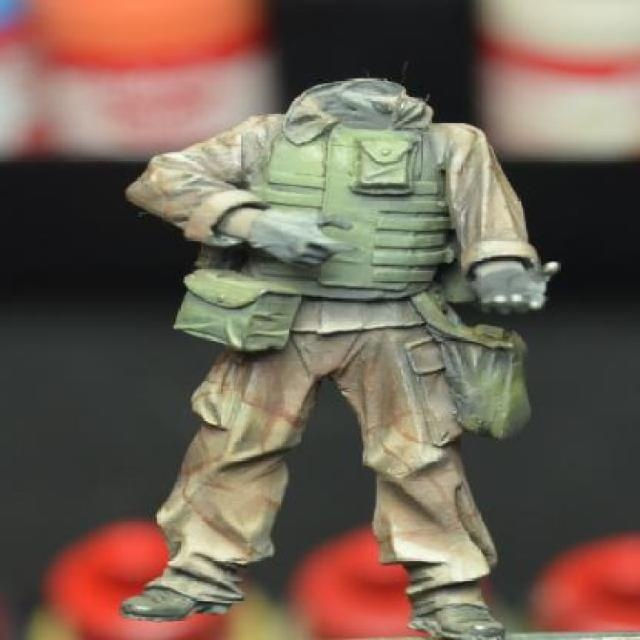obstacle: (128, 76, 562, 638)
